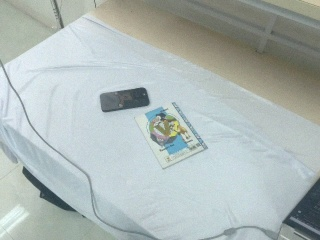book: (134, 101, 208, 170)
phone: (100, 87, 150, 112)
